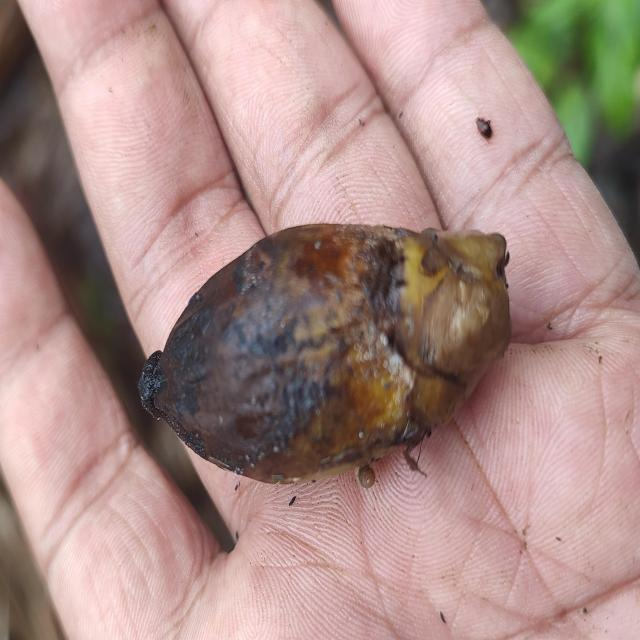damaged: (139, 224, 511, 483)
